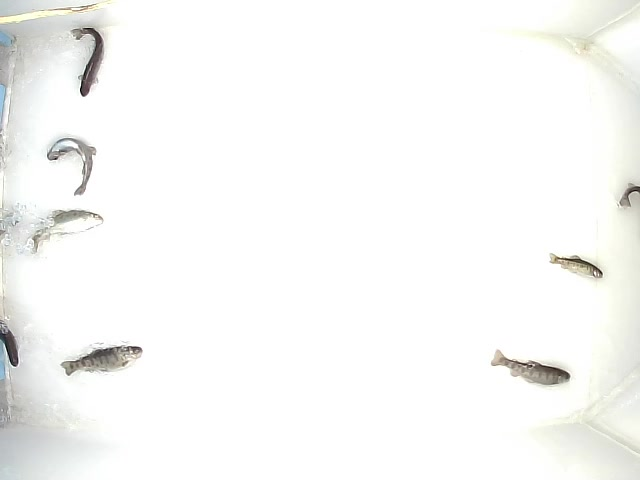fish: (488, 345, 571, 388), (28, 209, 103, 252), (45, 136, 97, 197), (60, 342, 143, 379), (68, 24, 105, 98), (547, 250, 605, 283)
